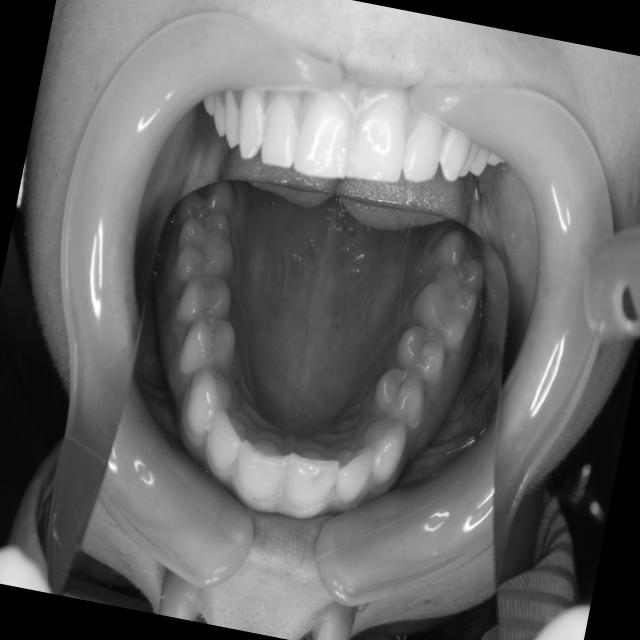tooth: (400, 256, 486, 364), (168, 202, 248, 296), (172, 302, 251, 391), (226, 421, 299, 516), (418, 218, 500, 301), (174, 354, 243, 447), (365, 356, 439, 440), (169, 167, 245, 241), (171, 262, 242, 337), (277, 439, 344, 518), (197, 397, 257, 484), (387, 316, 456, 391), (352, 408, 414, 491), (325, 438, 380, 514)
